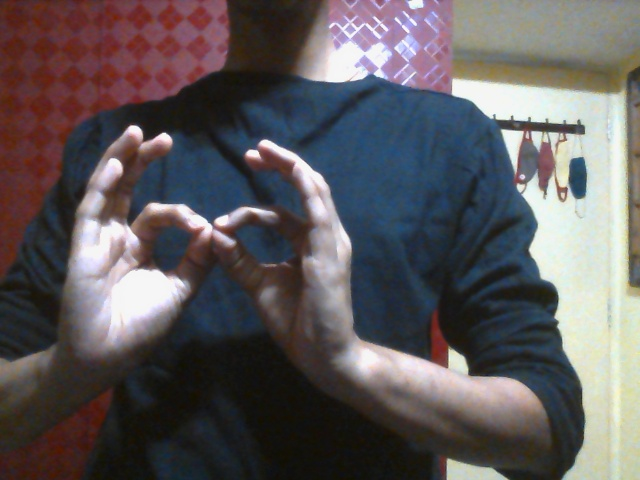B: (55, 122, 356, 410)
